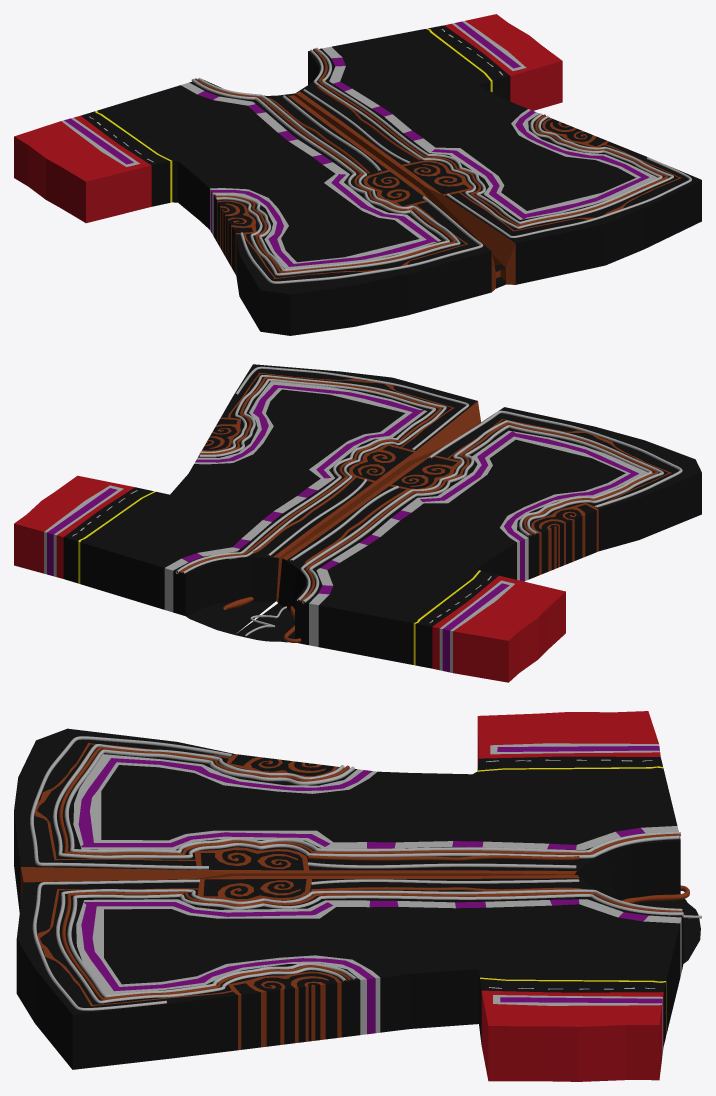
3 views of the same model, one above another, from view 1: azimuth 30°, elevation 25°; view 2: azimuth 150°, elevation 25°; view 3: azimuth 270°, elevation 25° (orthographic). The views are drawn at different scales.
Visible parts, largest first — view 1: 平面, NURBS路径.008, NURBS路径.006, NURBS路径, NURBS路径.007, NURBS路径.002, NURBS路径.001, NURBS路径.011, NURBS路径.005; view 2: 平面, NURBS路径.006, NURBS路径.008, NURBS路径, NURBS路径.007, NURBS路径.002, NURBS路径.001, NURBS路径.011, NURBS路径.005; view 3: 平面, NURBS路径.006, NURBS路径.008, NURBS路径, NURBS路径.002, NURBS路径.007, NURBS路径.001, NURBS路径.011, NURBS路径.005, NURBS路径.009, NURBS路径.010, NURBS路径.004 (+1 smaller).
Part boxes in pixels (x1,y1,x2,y2): 平面: [14, 14, 701, 335]; NURBS路径.008: [198, 78, 460, 275]; NURBS路径.006: [191, 78, 449, 271]; NURBS路径: [315, 47, 662, 223]; NURBS路径.007: [194, 78, 455, 273]; NURBS路径.002: [310, 49, 673, 228]; NURBS路径.001: [313, 48, 668, 226]; NURBS路径.011: [240, 196, 483, 283]; NURBS路径.005: [446, 157, 691, 237]; 平面: [14, 364, 701, 682]; NURBS路径.006: [302, 425, 652, 603]; NURBS路径.008: [297, 420, 663, 600]; NURBS路径: [175, 379, 435, 573]; NURBS路径.007: [300, 422, 657, 601]; NURBS路径.002: [182, 375, 446, 573]; NURBS路径.001: [179, 377, 441, 573]; NURBS路径.011: [428, 410, 682, 507]; NURBS路径.005: [235, 366, 469, 450]; 平面: [14, 711, 700, 1081]; NURBS路径.006: [64, 749, 680, 853]; NURBS路径.008: [53, 744, 679, 858]; NURBS路径: [67, 894, 683, 997]; NURBS路径.002: [56, 889, 682, 1003]; NURBS路径.007: [59, 746, 680, 855]; NURBS路径.001: [61, 891, 682, 1000]; NURBS路径.011: [30, 736, 232, 869]; NURBS路径.005: [32, 879, 199, 1010]; NURBS路径.009: [308, 855, 579, 860]; NURBS路径.010: [308, 862, 576, 868]; NURBS路径.004: [310, 879, 579, 884].
Bounding box in the file's own units: 3.41 × 0.2908 × 3.13.
